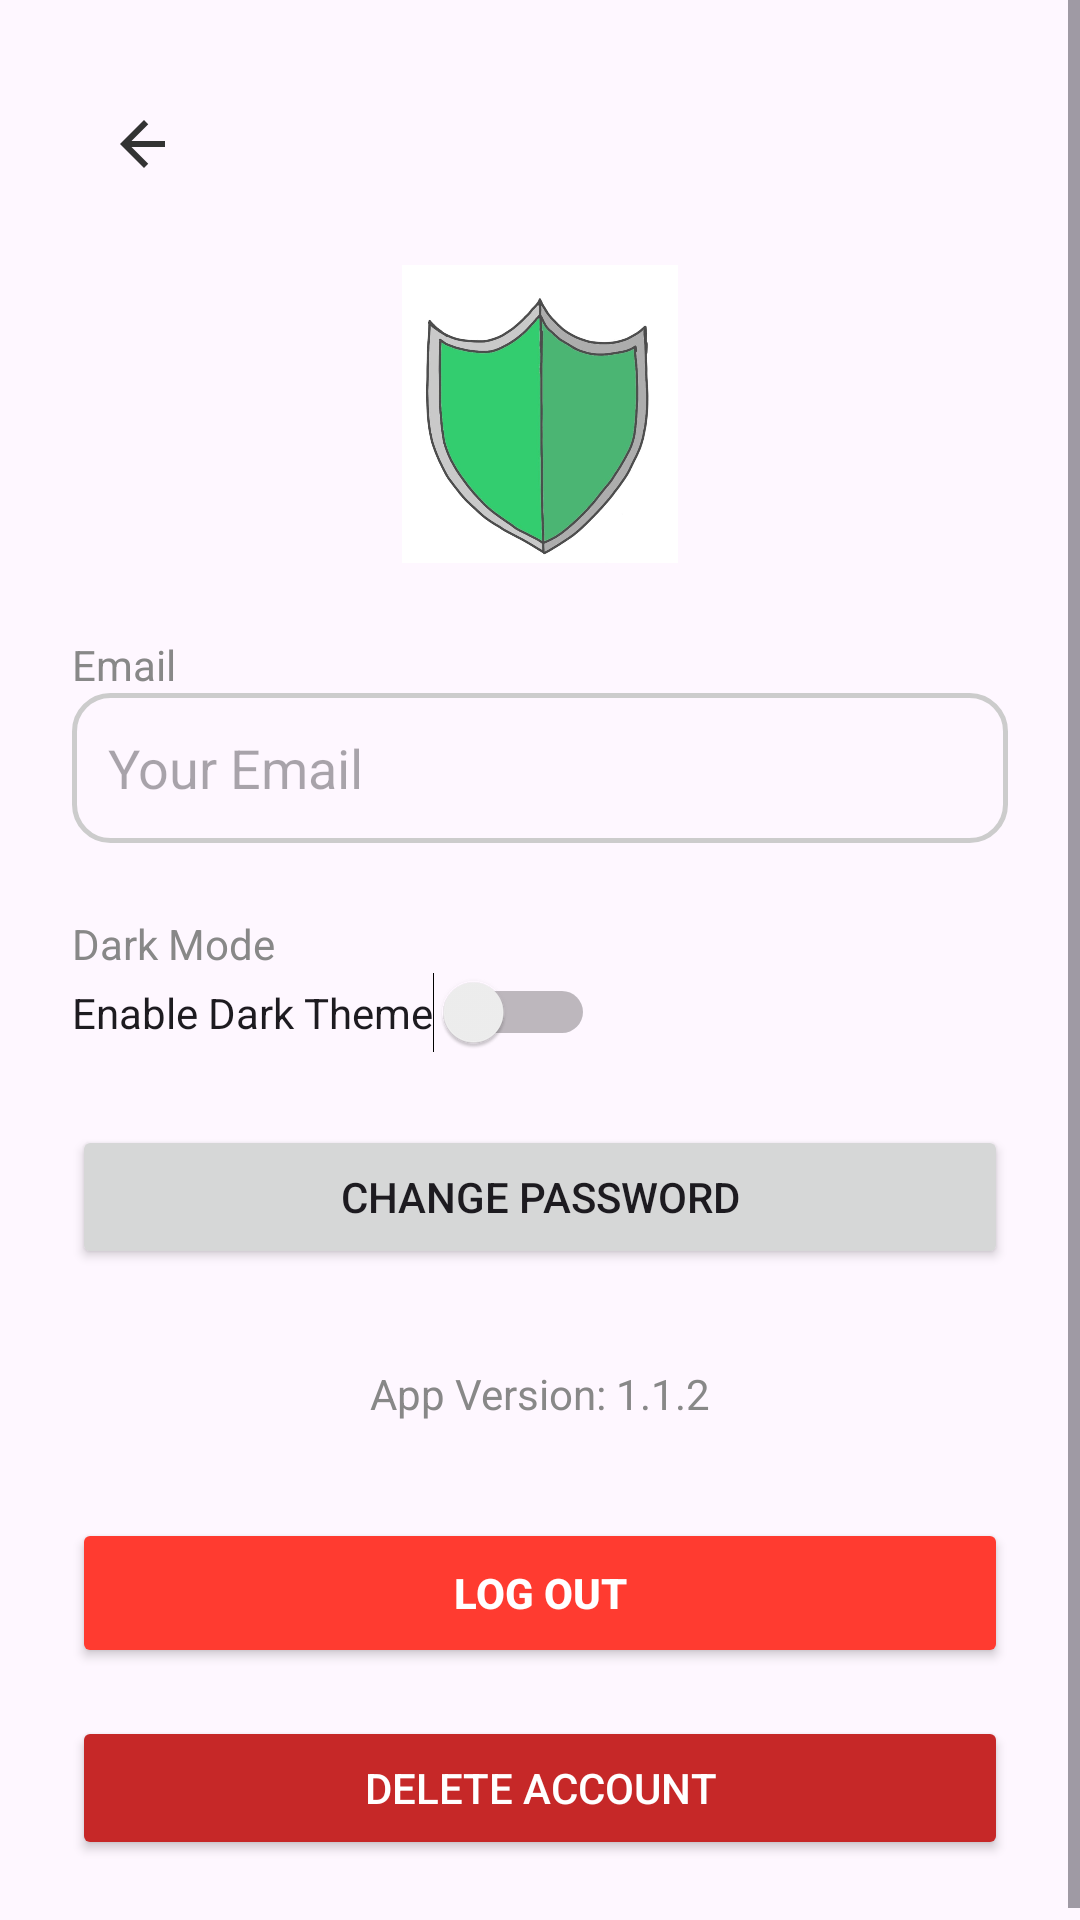

Where to tap for icons on this 1080px×1920px app screen, as (x,y):
Back: (142,144)
